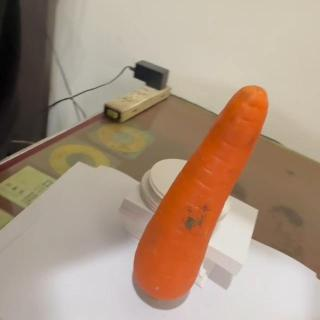carrot: (134, 84, 268, 304)
